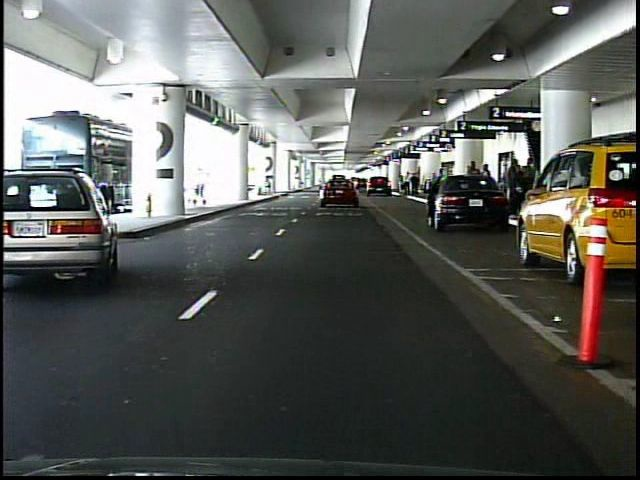person: (520, 156, 538, 221), (502, 159, 522, 217), (466, 158, 482, 209), (480, 162, 495, 209), (403, 170, 412, 197), (411, 173, 420, 198), (398, 175, 405, 192)
